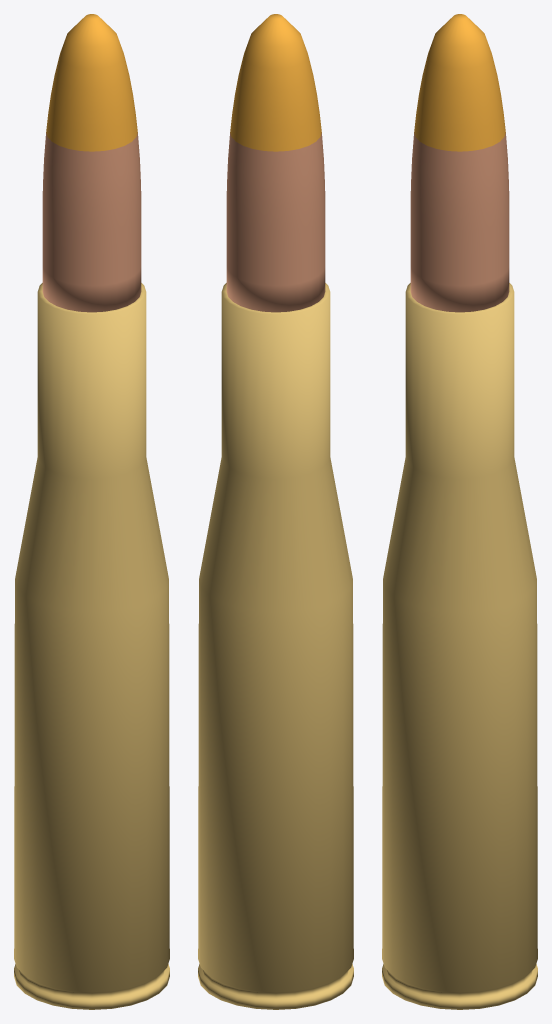
The model's file is 50bmg_in.glb.
The picture shows the model from 3 angles, left to right: view 1: azimuth 30°, elevation 25°; view 2: azimuth 150°, elevation 25°; view 3: azimuth 270°, elevation 25°; orthographic projection.
Parts seen in each view (by area): view 1: vaina, bala_cuerpo, punta; view 2: vaina, bala_cuerpo, punta; view 3: vaina, bala_cuerpo, punta.
Boxes of the visible parts, box(x1,y1,x2,y2) form: vaina: box(14, 283, 169, 1009); bala_cuerpo: box(42, 132, 141, 312); punta: box(46, 14, 137, 151); vaina: box(198, 283, 353, 1009); bala_cuerpo: box(226, 132, 325, 312); punta: box(230, 14, 321, 151); vaina: box(382, 283, 537, 1009); bala_cuerpo: box(410, 132, 509, 312); punta: box(414, 14, 505, 151).
Size of the model in its own units: 0.0204 by 0.1388 by 0.0204.
